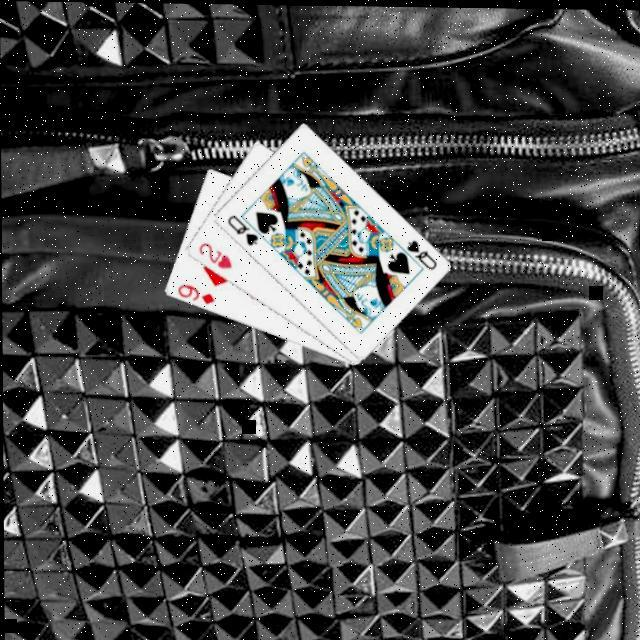2H: (197, 237, 236, 269)
9D: (176, 279, 218, 305)
QS: (226, 209, 262, 245), (404, 234, 440, 270)
